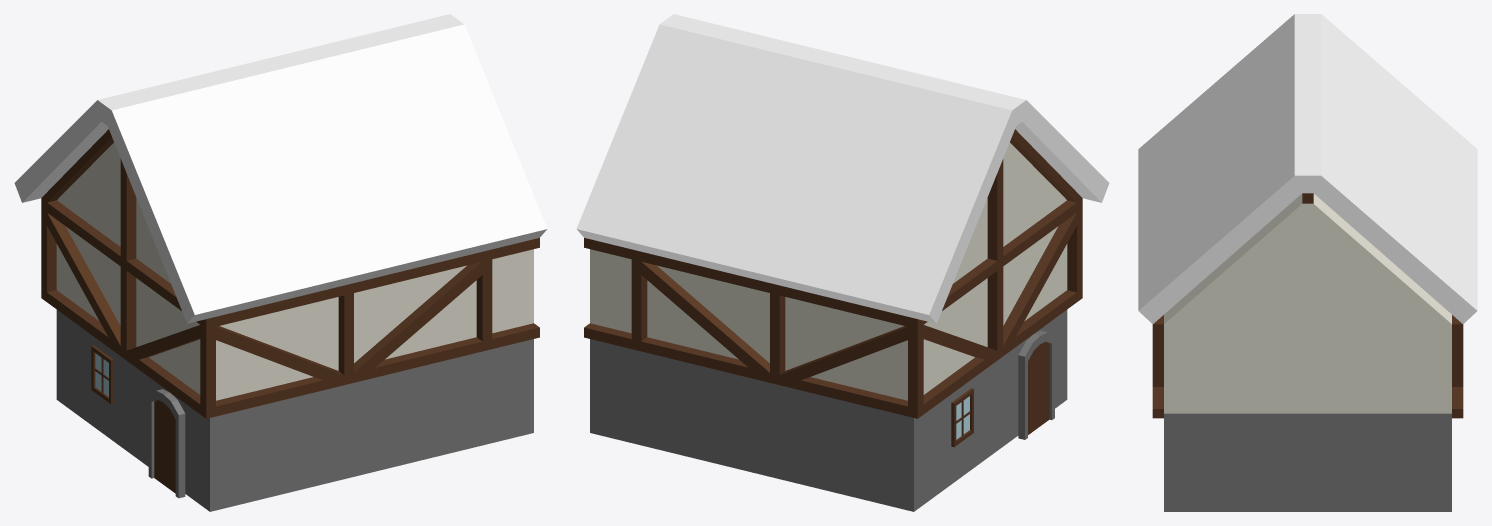
Rendered from CapComplex.fbx.
3 views of the same model, side by side, from view 1: azimuth 30°, elevation 25°; view 2: azimuth 150°, elevation 25°; view 3: azimuth 270°, elevation 25° (orthographic). The views are drawn at different scales.
Parts seen in each view (by area): view 1: Cap Complex; view 2: Cap Complex; view 3: Cap Complex.
Part boxes in pixels (x1,y1,x2,y2): Cap Complex: (14, 14, 547, 511); Cap Complex: (576, 14, 1109, 511); Cap Complex: (1138, 14, 1477, 511).
Size of the model in its own units: 92.5 by 89.63 by 81.96.
